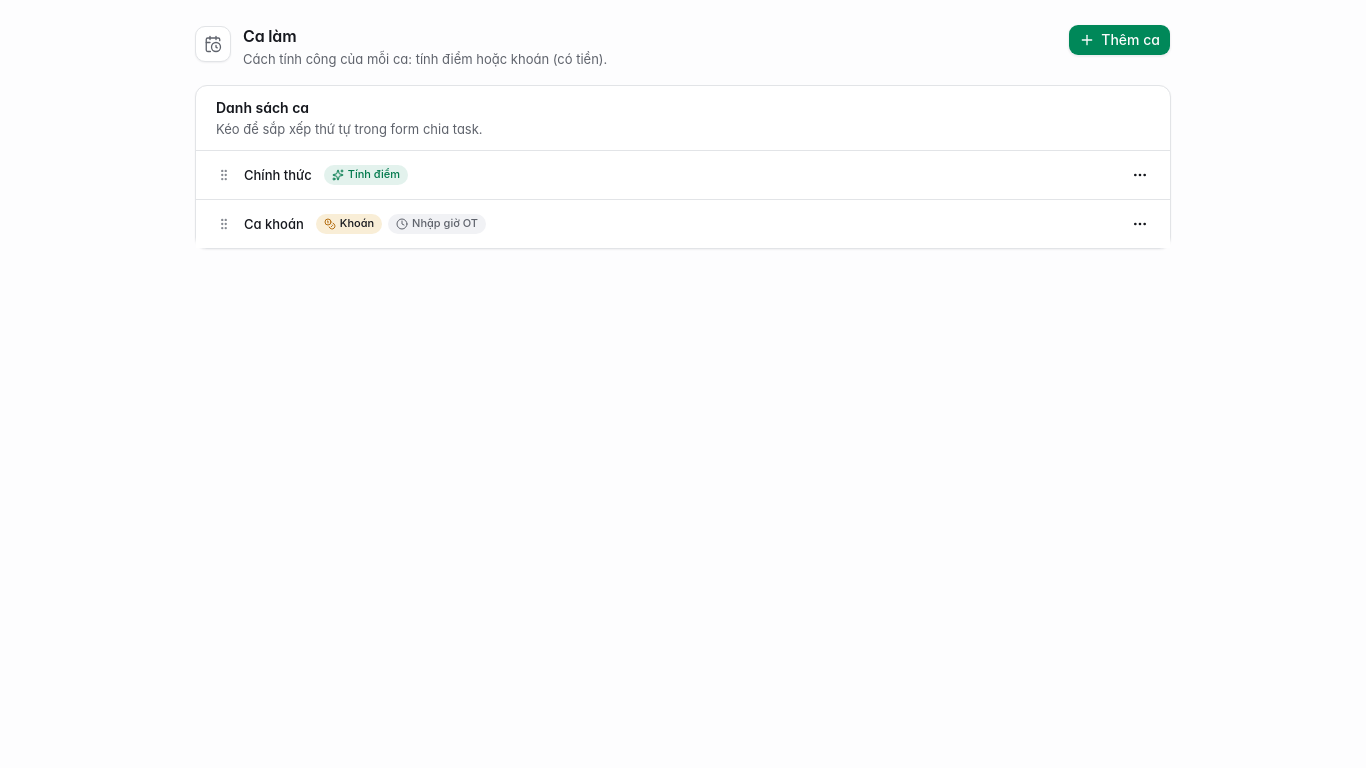
Test: Cấu hình → Ca làm (PD-050) › stays editable for the superadmin
expect the button named "Kéo để sắp xếp Ca khoán" is shown: met, box [212,212,236,236]
expect the button "Thêm ca" is shown: met, box [1068,24,1171,56]
What coordinates should you click on to do the following:
click the button "Ca khoán Khoán Nhập giờ OT"
I would click on:
 (274, 224)
Its box is [244,214,1118,234].
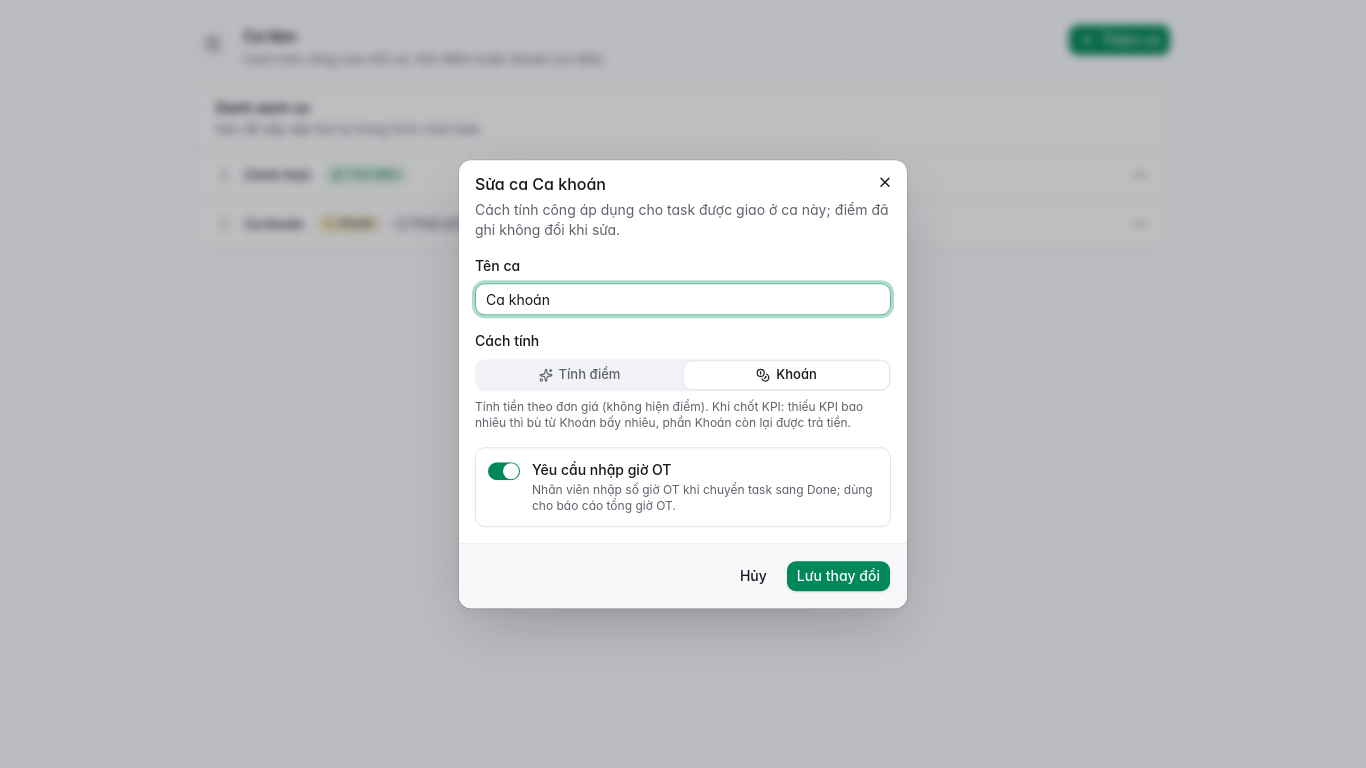
expect the dialog is shown: met, box [459,160,907,608]
expect the heading "Sửa ca Ca khoán" is shown: met, box [475,174,606,194]
